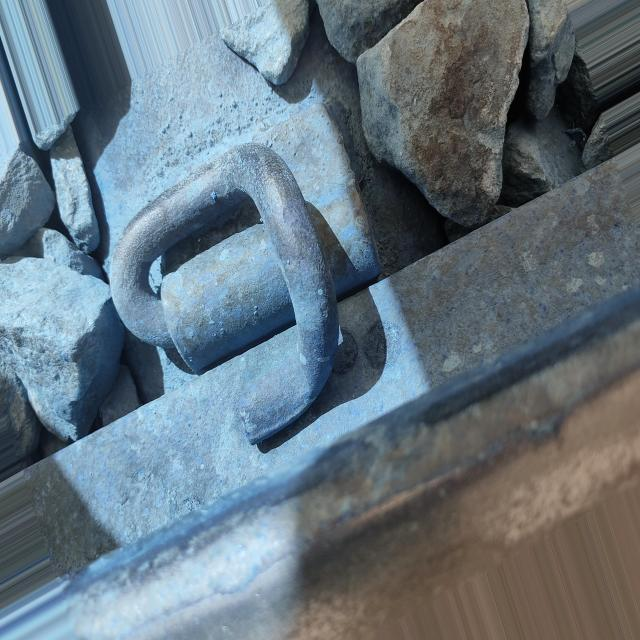Good Fasteners: (106, 140, 367, 453)
